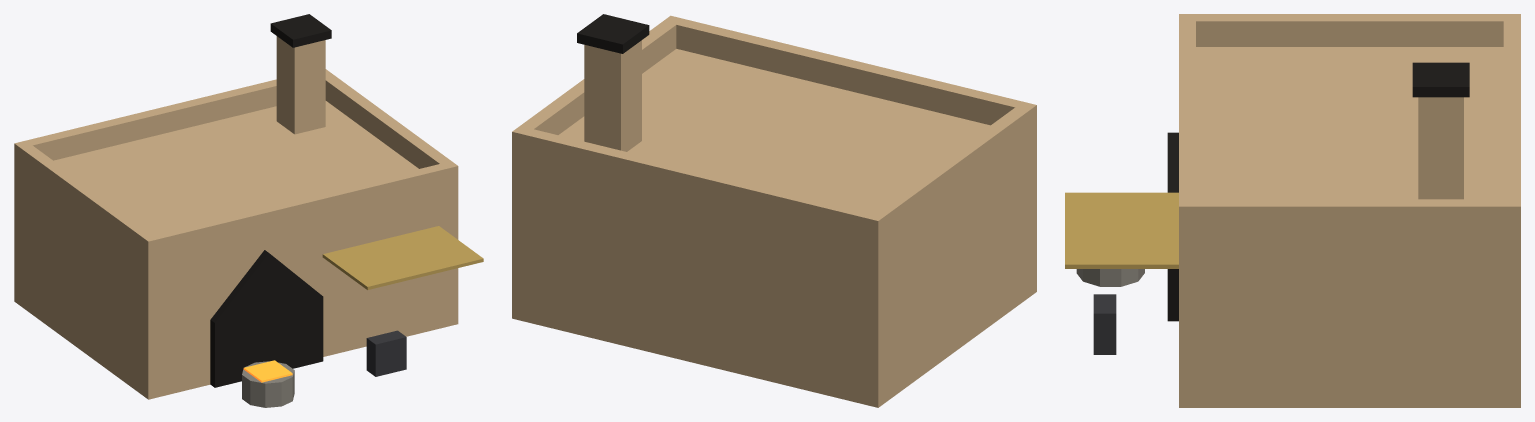
File: smithy.glb
The picture shows the model from 3 angles, left to right: view 1: azimuth 30°, elevation 25°; view 2: azimuth 150°, elevation 25°; view 3: azimuth 270°, elevation 25°; orthographic projection. The views are drawn at different scales.
Parts seen in each view (by area): view 1: Smithy; view 2: Smithy; view 3: Smithy.
Part boxes in pixels (box(x1,y1,x2,y2)): Smithy: box(14, 14, 483, 407); Smithy: box(512, 14, 1036, 407); Smithy: box(1065, 14, 1520, 407).
Bounding box in the file's own units: 8 × 5.8 × 8.
